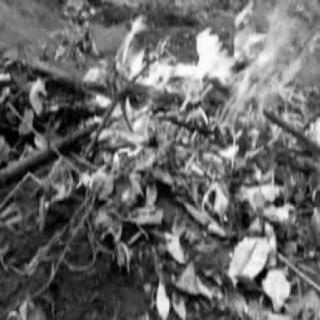Fire: (82, 1, 320, 191)
